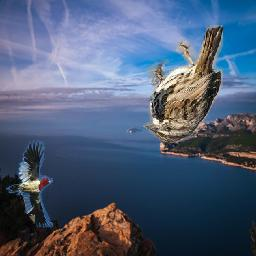Sparrow: (143, 25, 223, 143)
Woodpecker: (7, 140, 54, 228)
